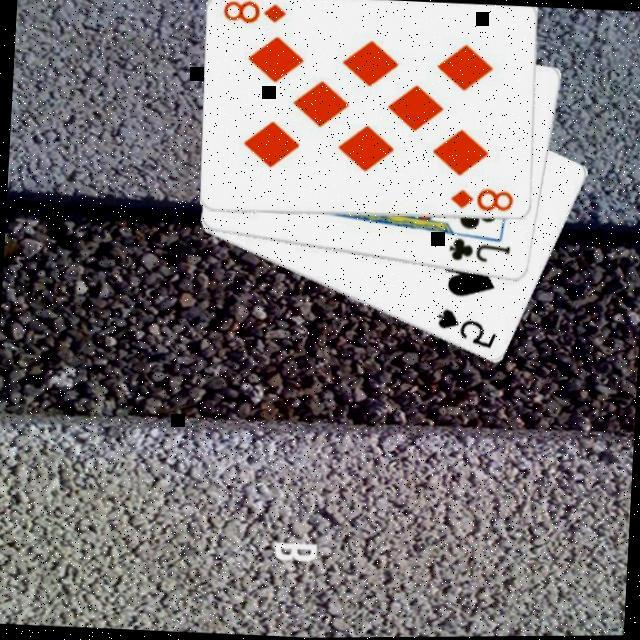5S: (431, 306, 499, 352)
8D: (446, 183, 516, 215), (218, 0, 288, 28)
JC: (443, 233, 512, 267)
